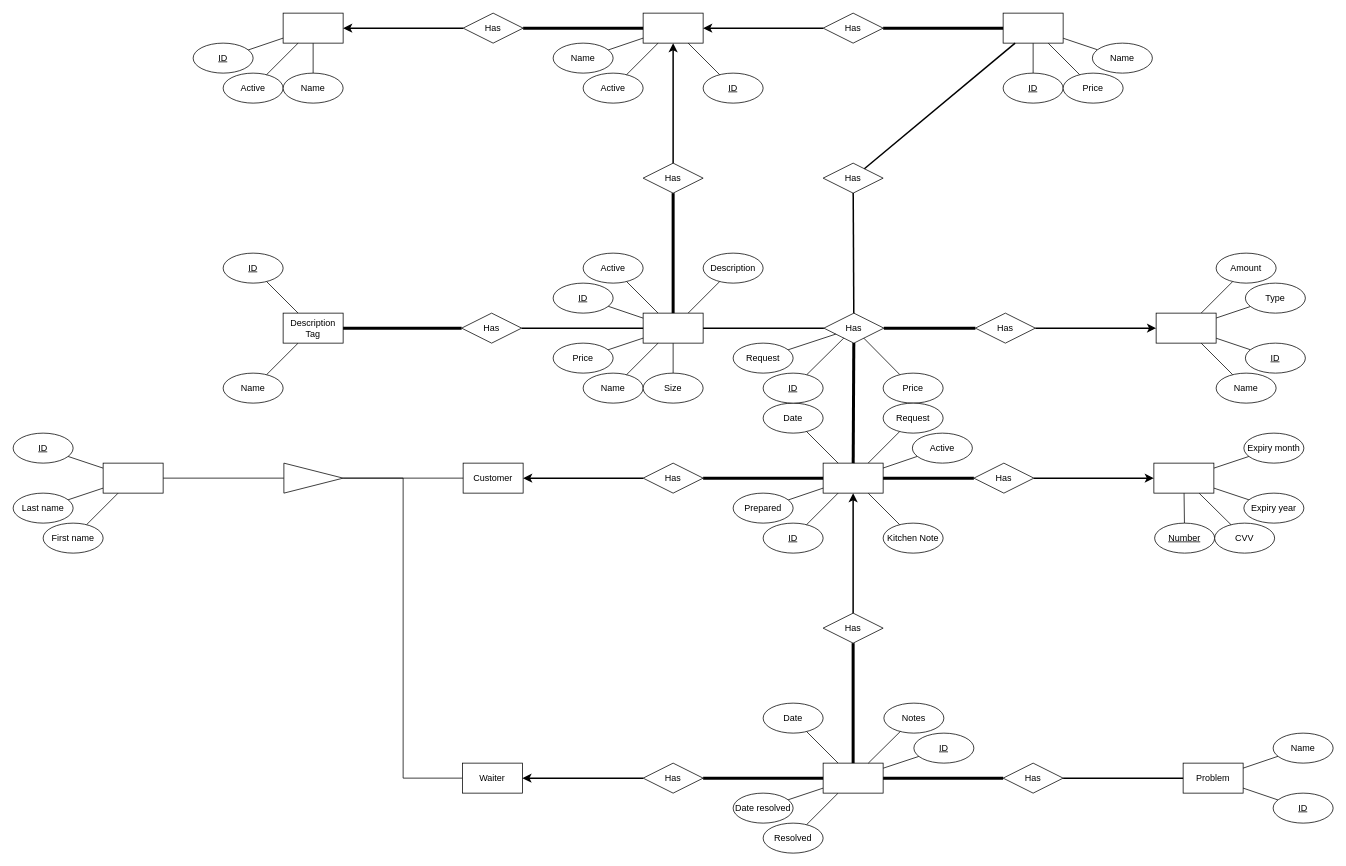
This 1346x866 diagram has some shape labels left out. Each missing label, with the centre of its shape:
Assistance: point 852,777
Category: point 672,27
Credit Card: point 1183,477
CustomUser: point 132,477
Discount: point 1185,327
Extra: point 1032,27
Food Item: point 672,327
is a: point 313,477
Menu: point 312,27
Transaction: point 852,477
